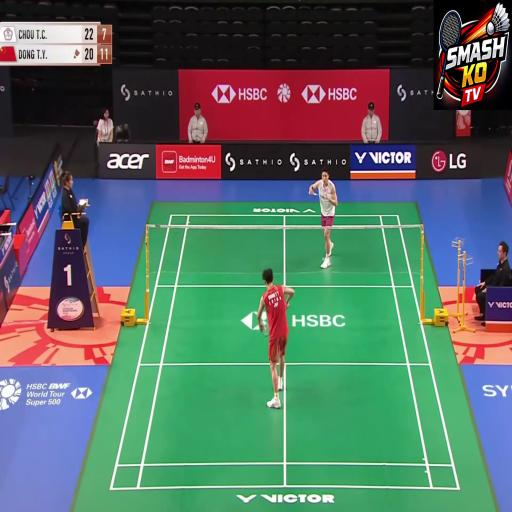player: (242, 268, 302, 411), (304, 150, 342, 293)
